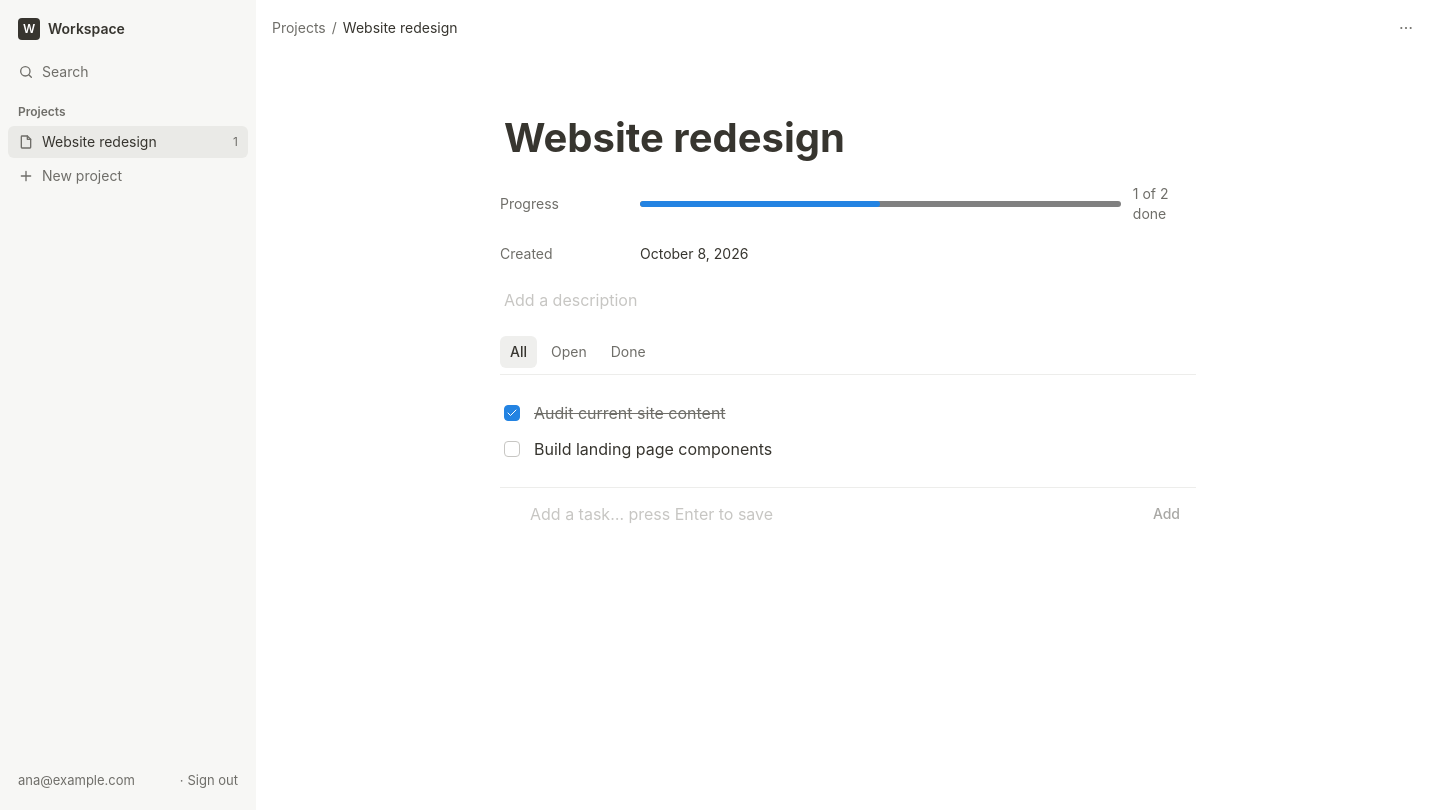
project detail page › deletes a project through the confirm dialog, then navigates and toasts
The width and height of the screenshot is (1440, 810).
Click the button named "More actions" at (1406, 28), box [1388,10,1424,46]
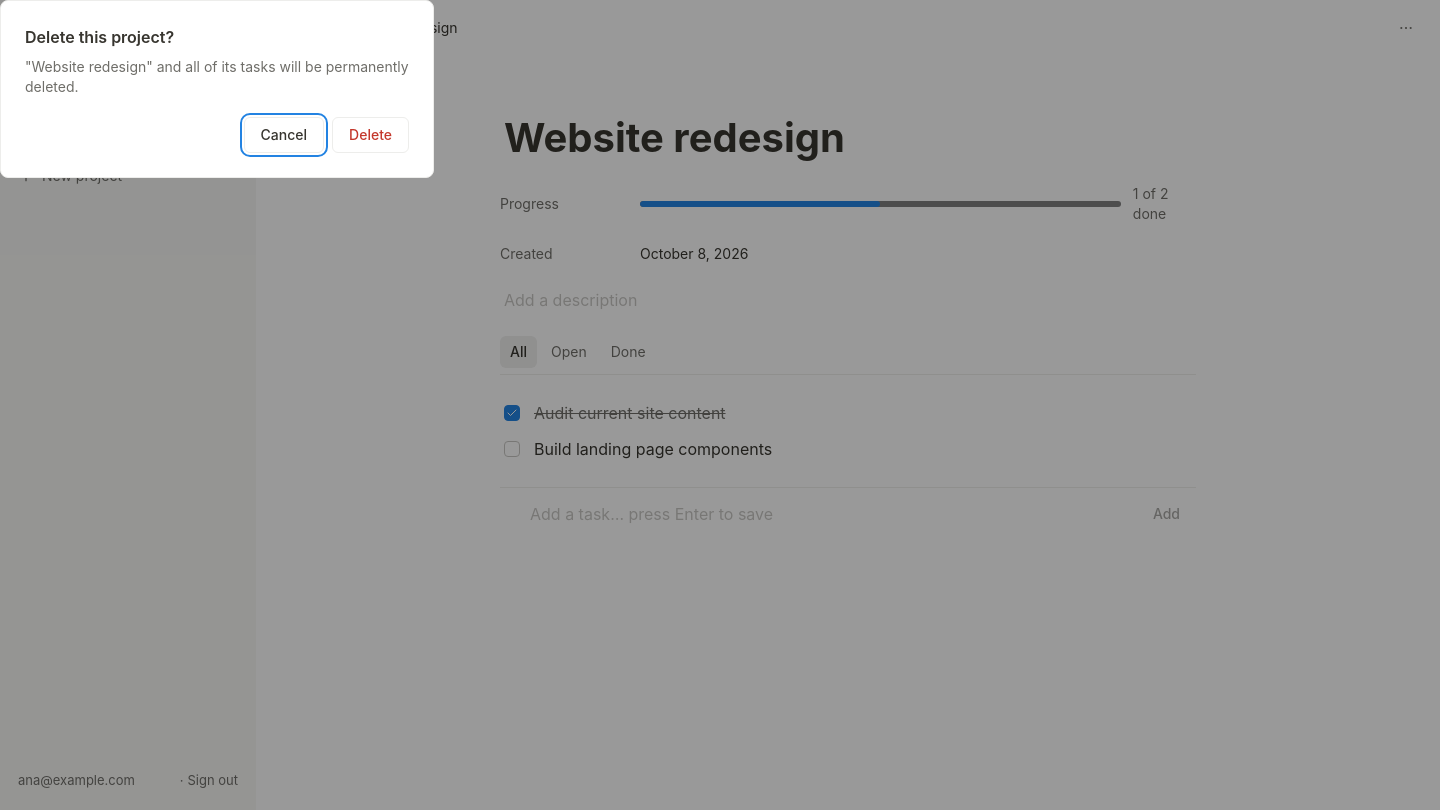
Click the button "Delete" at (371, 135), box [332,117,409,153]
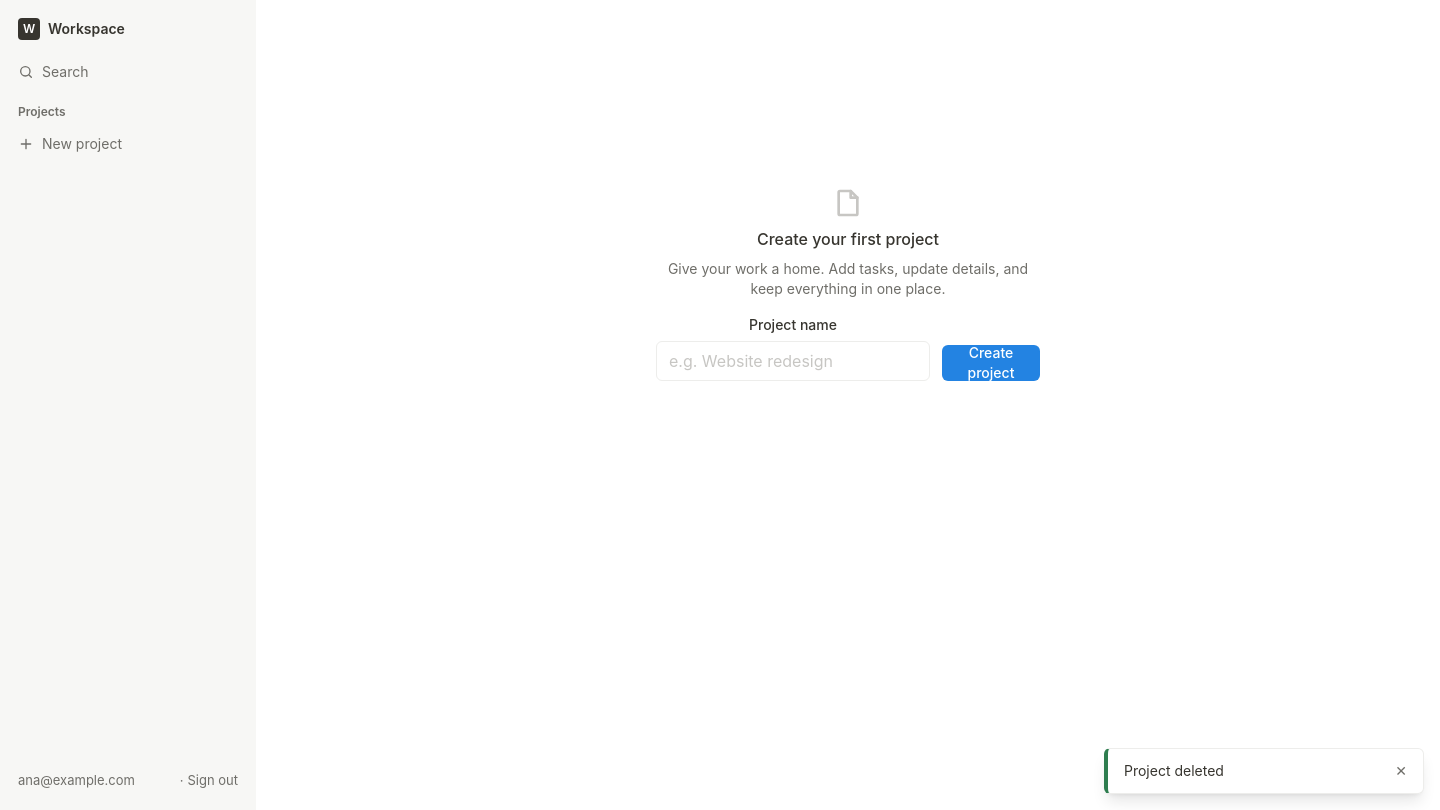
Result: the text "Project deleted" is shown at [1124,762,1224,779]
Result: the text "Create your first project" is shown at [757,226,939,250]
